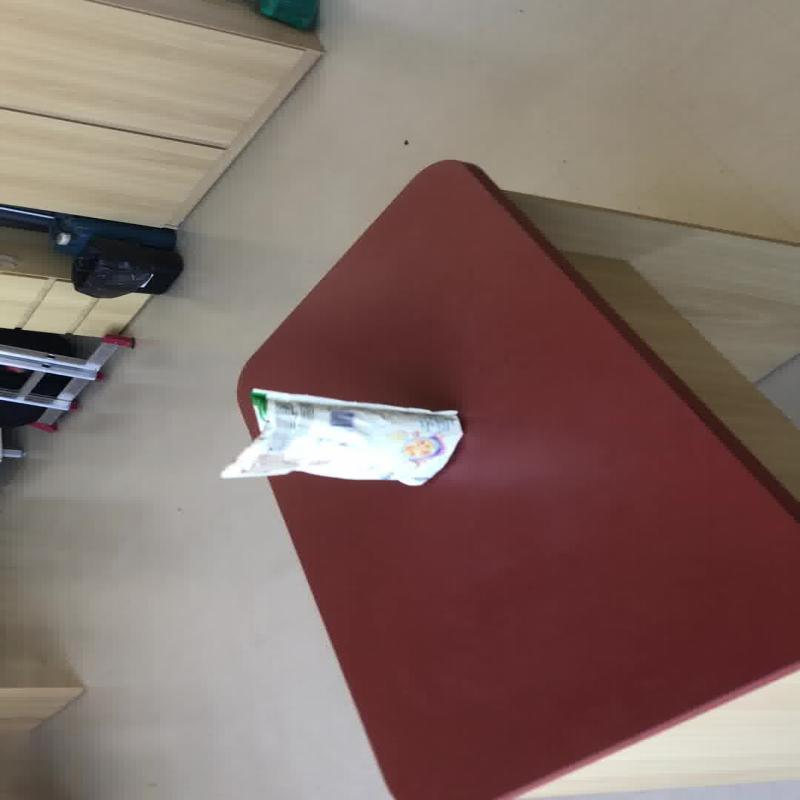corn flakes: (218, 386, 463, 486)
